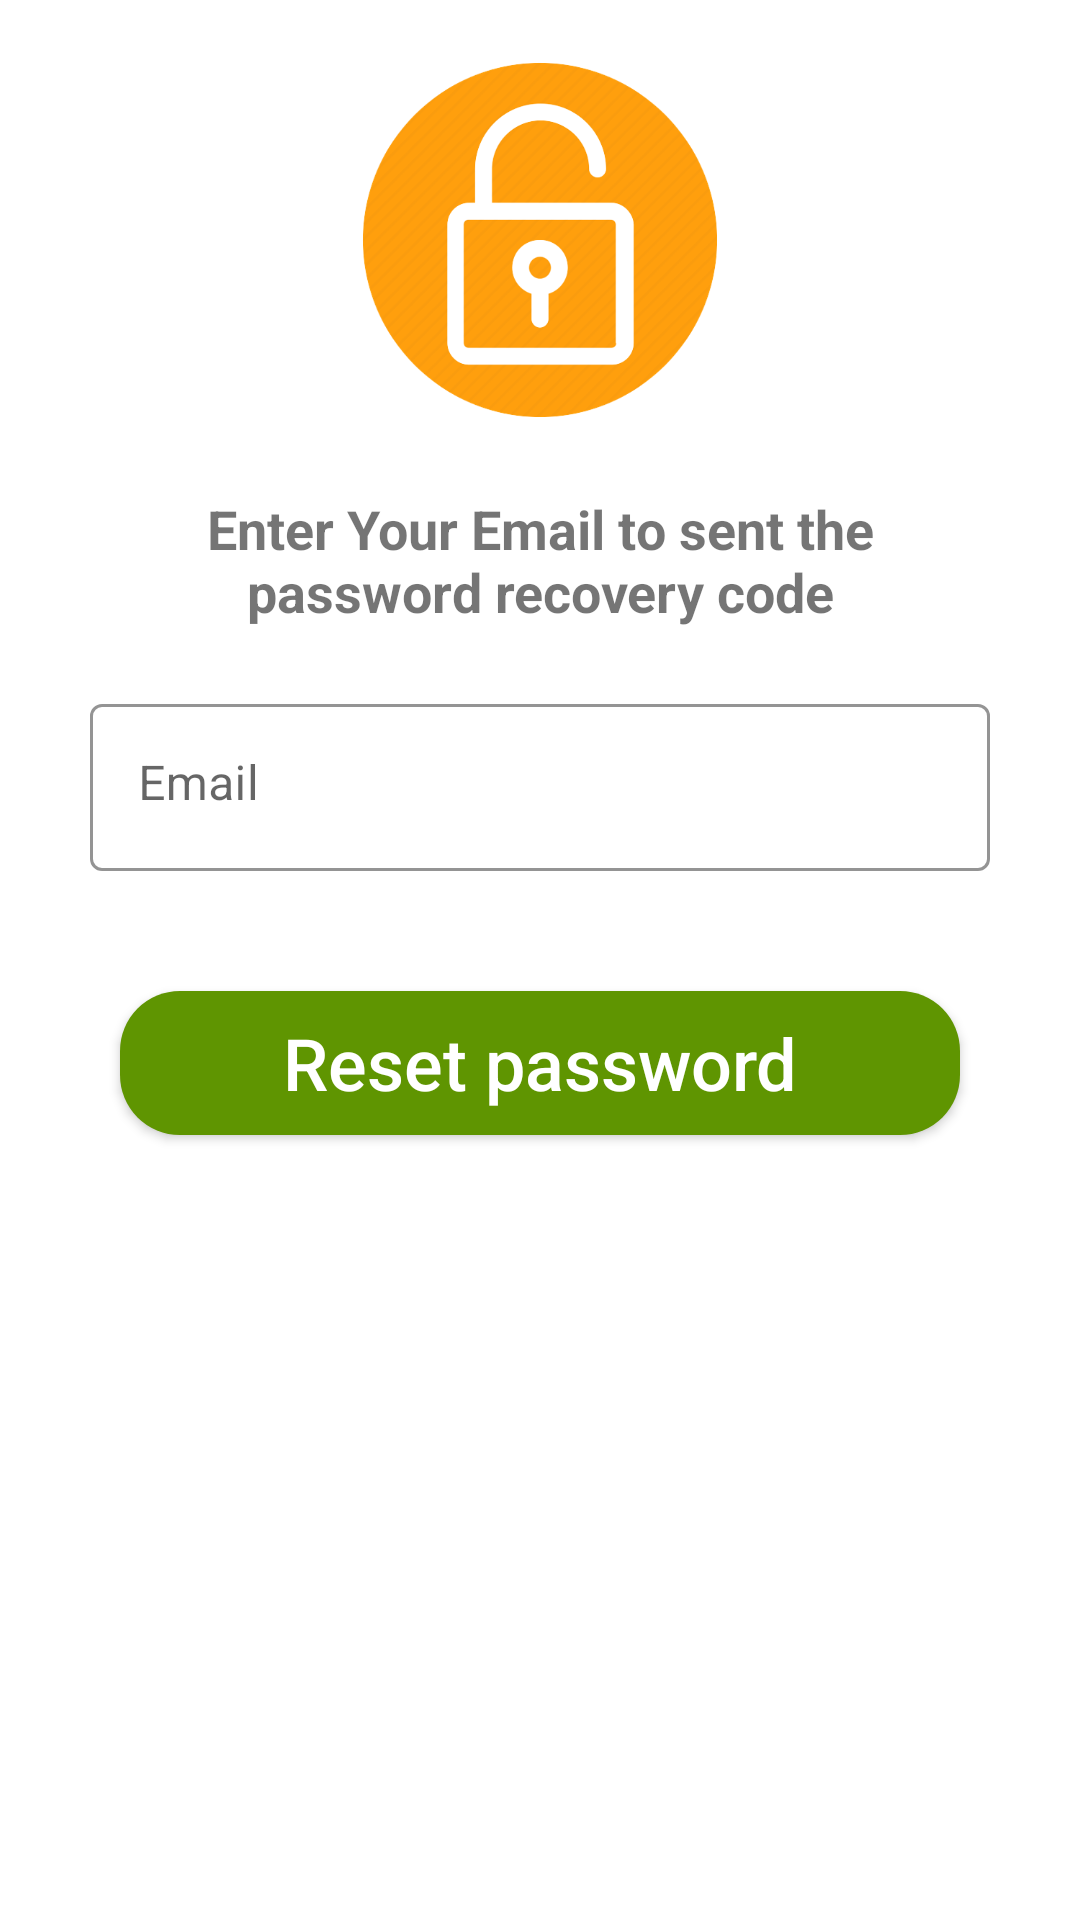

Locate icon controls on the screen. Image size 1080×1920, boxes as BBox(x1, y1, x2, y2).
lock password: BBox(363, 63, 717, 417)
